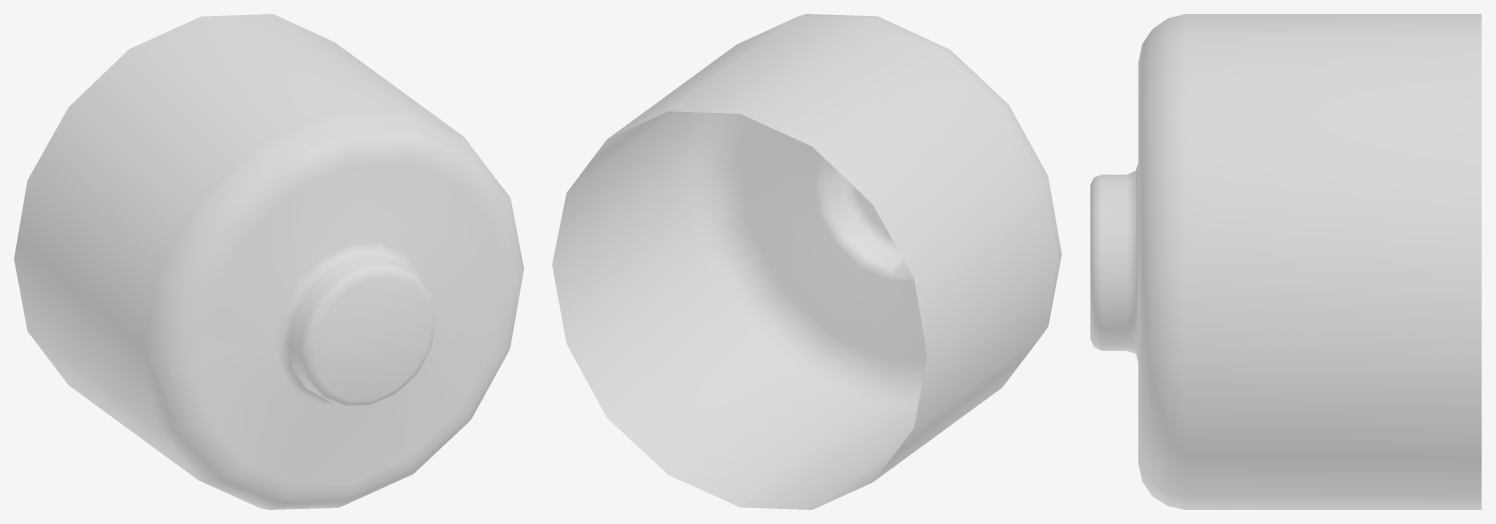
The model's file is play_btn-transformed.glb.
The picture shows the model from 3 angles, left to right: view 1: azimuth 30°, elevation 25°; view 2: azimuth 150°, elevation 25°; view 3: azimuth 270°, elevation 25°; orthographic projection. The views are drawn at different scales.
Parts seen in each view (by area): view 1: play_btn; view 2: play_btn; view 3: play_btn.
Boxes of the visible parts, bbox=[...] form: play_btn: bbox=[14, 14, 523, 509]; play_btn: bbox=[552, 14, 1061, 509]; play_btn: bbox=[1090, 14, 1481, 509].
Bounding box in the file's own units: 0.00549 × 0.0055 × 0.00434.
1 material, 1 textured.
